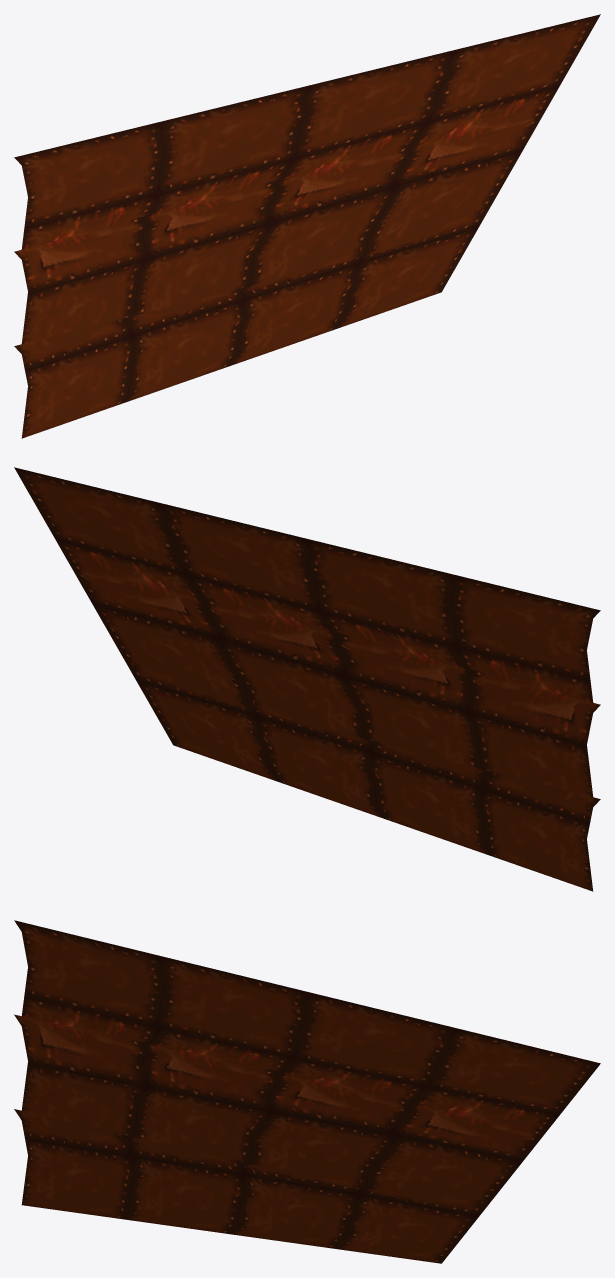
File: W_Wandteil_Museum_376.glb
3 views of the same model, one above another, from view 1: azimuth 30°, elevation 25°; view 2: azimuth 150°, elevation 25°; view 3: azimuth 330°, elevation 25° (orthographic).
Parts seen in each view (by area): view 1: pPlaneShape3; view 2: pPlaneShape3; view 3: pPlaneShape3.
Part boxes in pixels (x1=…): pPlaneShape3: x1=14, y1=14, x2=600, y2=438; pPlaneShape3: x1=14, y1=467, x2=600, y2=891; pPlaneShape3: x1=14, y1=920, x2=600, y2=1263.
Size of the model in its own units: 2.53 by 1.17 by 5.1e-08.
Materials: 1 (1 with a texture image).
